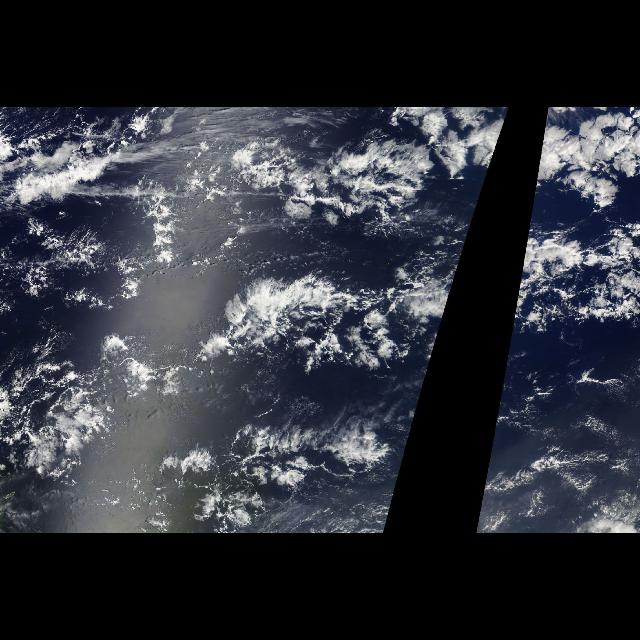Fish: (212, 107, 510, 389), (500, 107, 640, 389)
